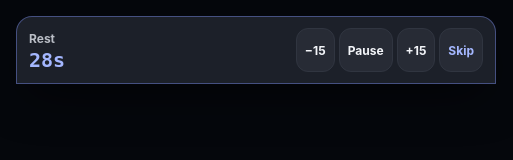
Test case: RestTimer › resumes when tapped again after pausing
Expected: the text "28s" is shown, x1=29 y1=50 x2=65 y2=70
Click the button with aria-label "pause timer": (366, 50) x1=339 y1=28 x2=392 y2=72
Wait 5000 ms
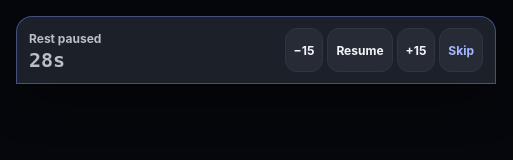
Expected: the text "28s" is shown, x1=29 y1=48 x2=65 y2=72
Click the button with aria-label "resume timer": (360, 50) x1=327 y1=28 x2=393 y2=72
Wait 3000 ms
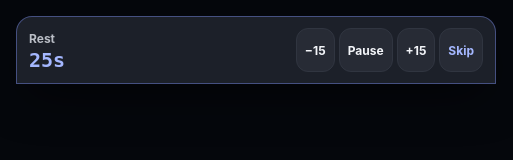
Expected: the text "25s" is shown, x1=29 y1=50 x2=65 y2=70
